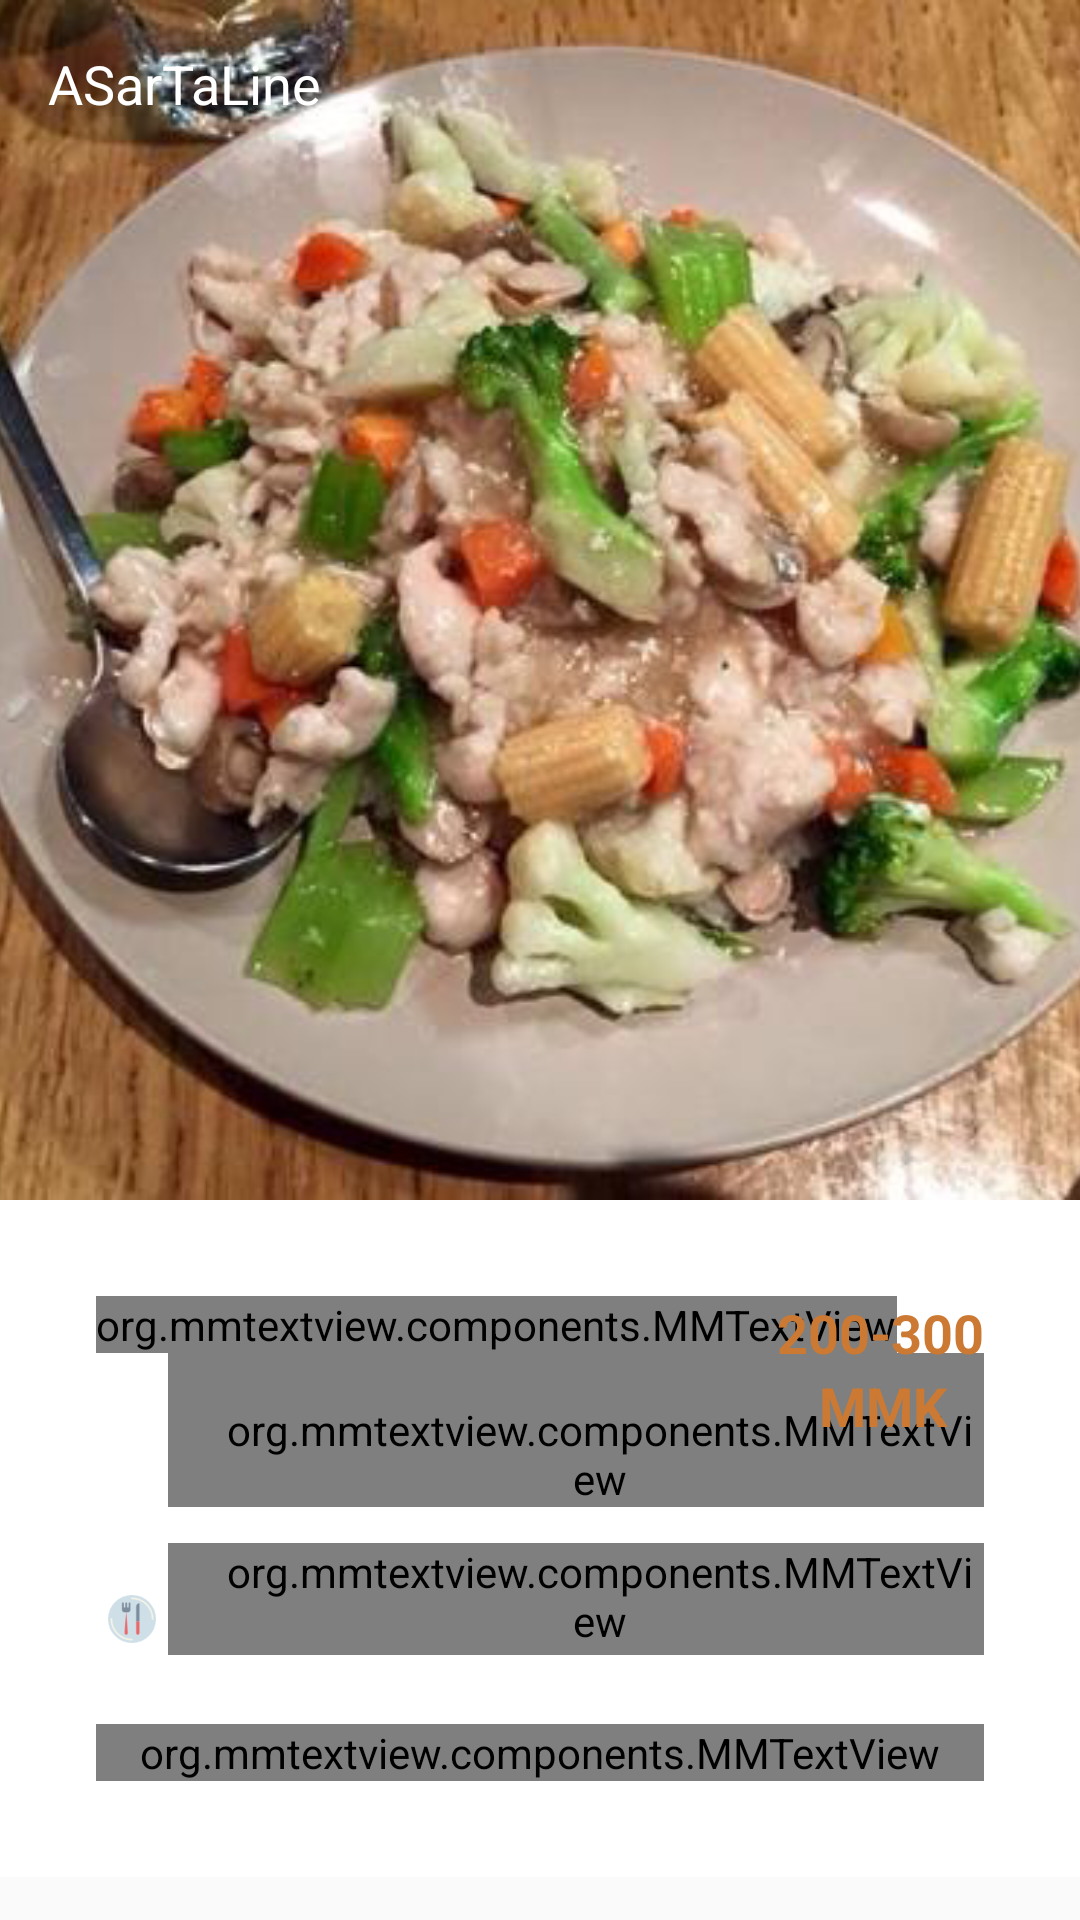

Screen size 1080px×1920px. Icon name, then its box in pixels as (x1, y1, x2, y2):
cutlery: (108, 1595, 156, 1643)
